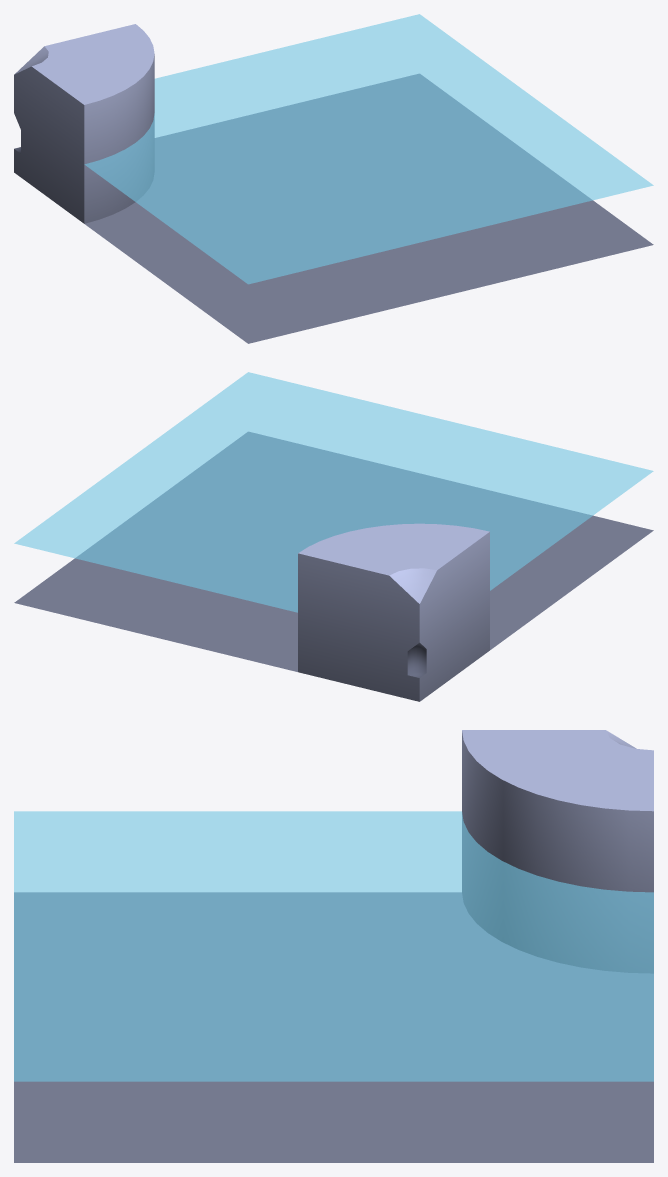
The model's file is fountain-corner-inner.glb.
3 views of the same model, one above another, from view 1: azimuth 30°, elevation 25°; view 2: azimuth 150°, elevation 25°; view 3: azimuth 270°, elevation 25° (orthographic). The views are drawn at different scales.
Visible parts, largest first — view 1: fountain-corner-inner, (%ignore); view 2: fountain-corner-inner, (%ignore); view 3: fountain-corner-inner, (%ignore).
Boxes of the visible parts, x1,y1,x2,y2 form: fountain-corner-inner: (14,24,653,343); (%ignore): (84,14,653,284); fountain-corner-inner: (14,432,653,701); (%ignore): (14,372,653,612); fountain-corner-inner: (14,730,653,1162); (%ignore): (14,811,653,1081).
Bounding box in the file's own units: 1 × 0.2799 × 1.
Materials: 2 (1 with a texture image).
